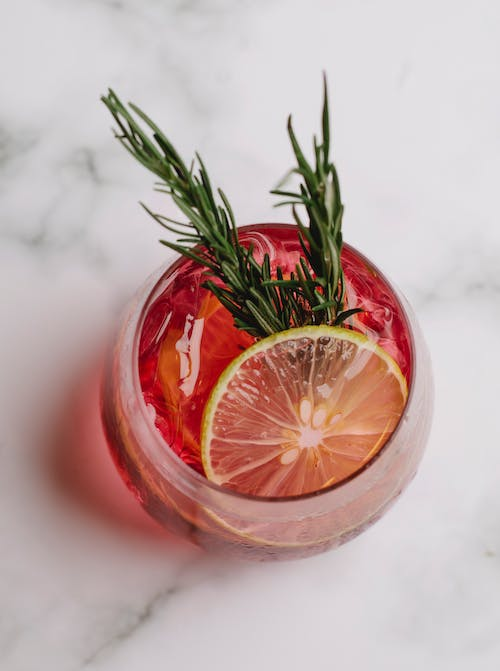alcohol: (96, 220, 438, 565)
